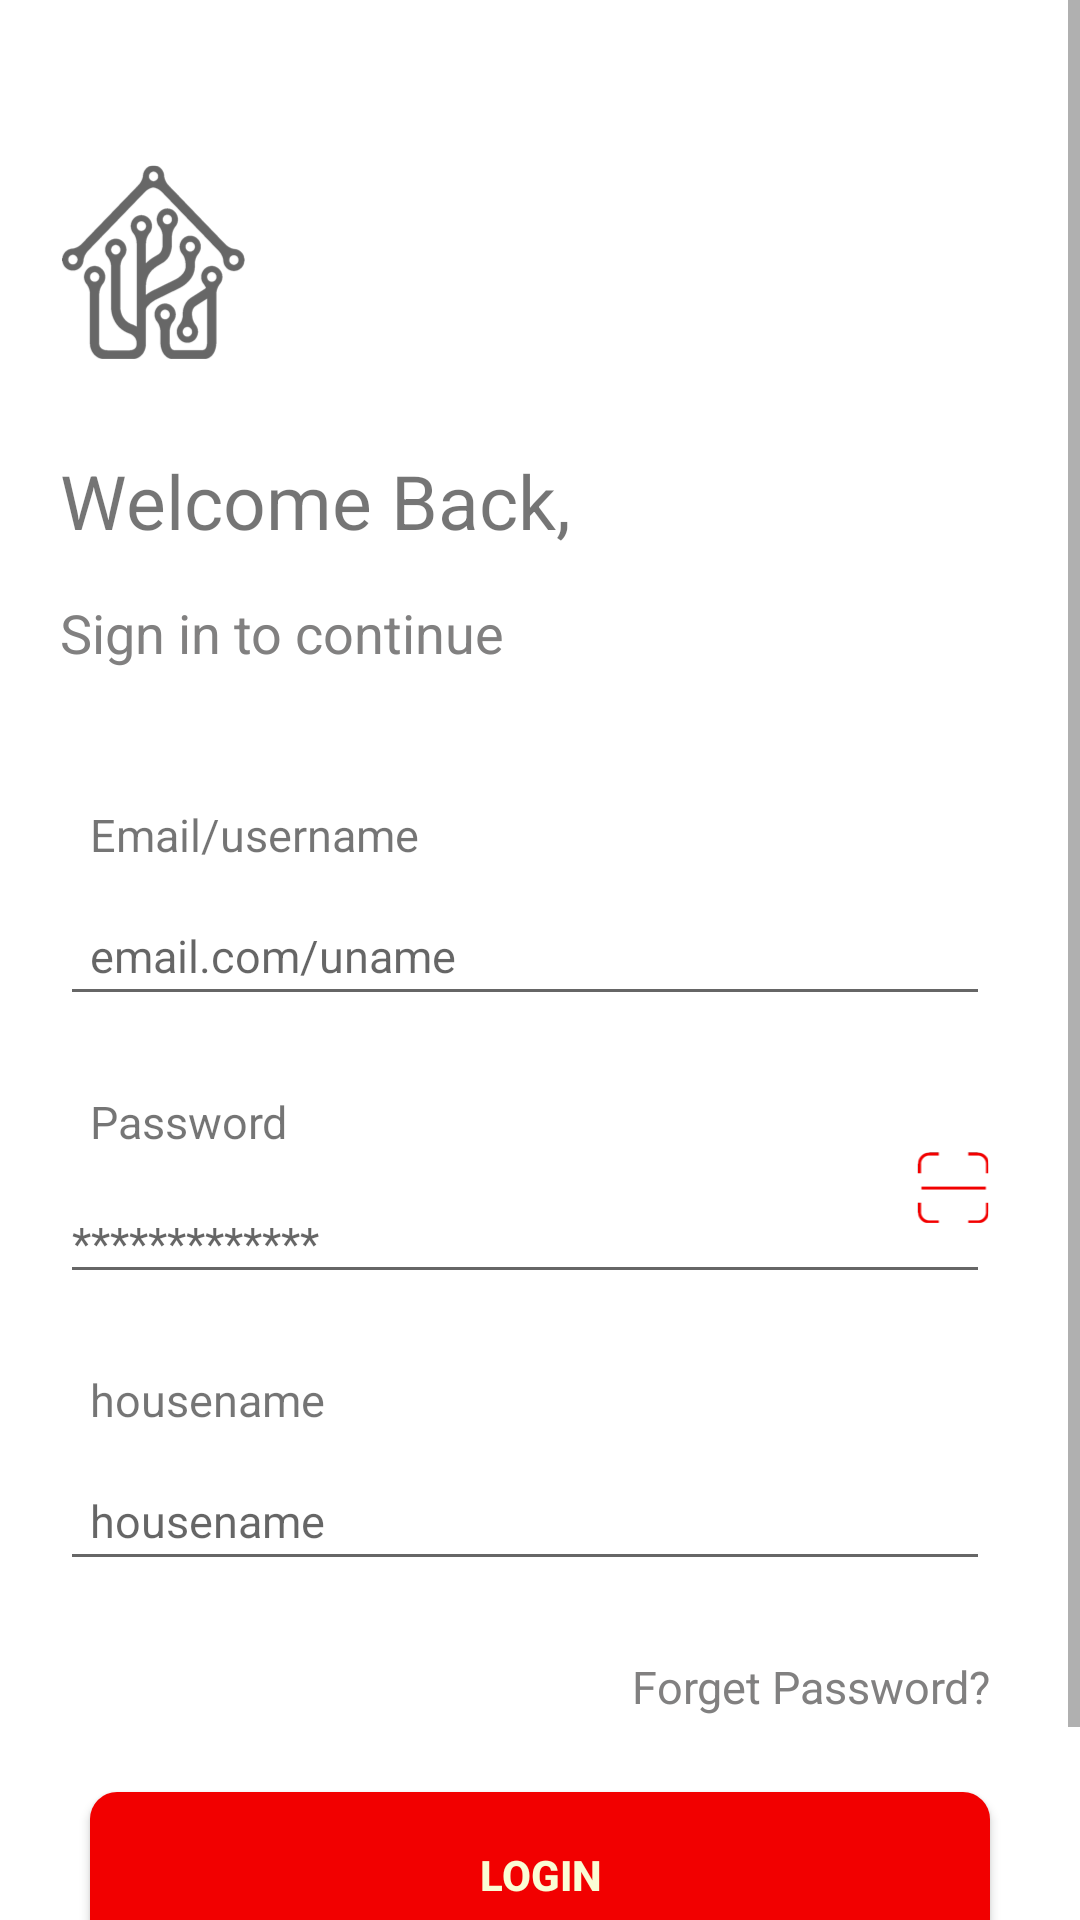

Named icons in this screenshot (1080w x 1920h) and their centers, (x,y):
scan: (953,1187)
